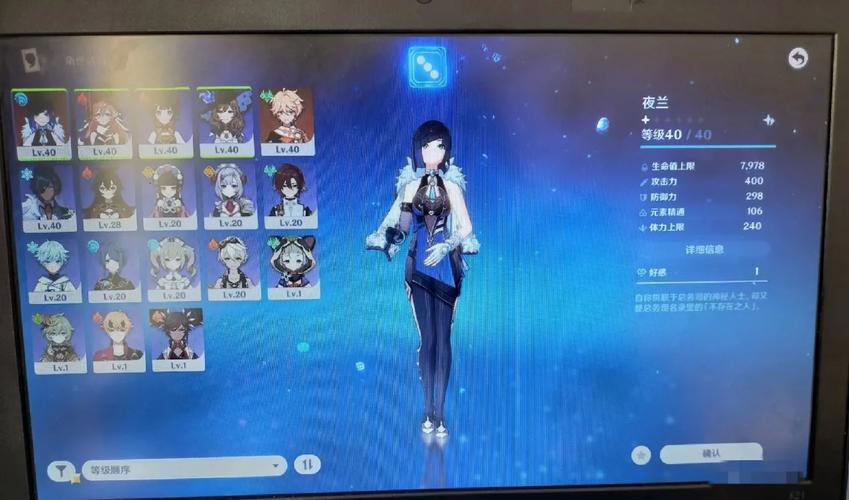夜兰: (379, 120, 487, 451), (18, 94, 66, 148)
